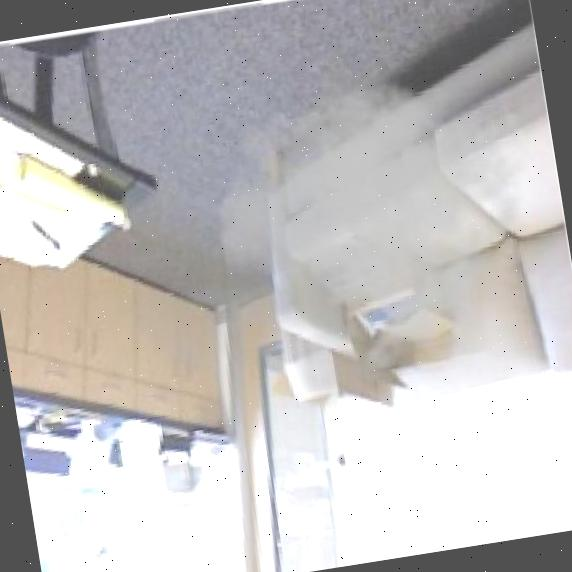smoke: (195, 77, 533, 479)
